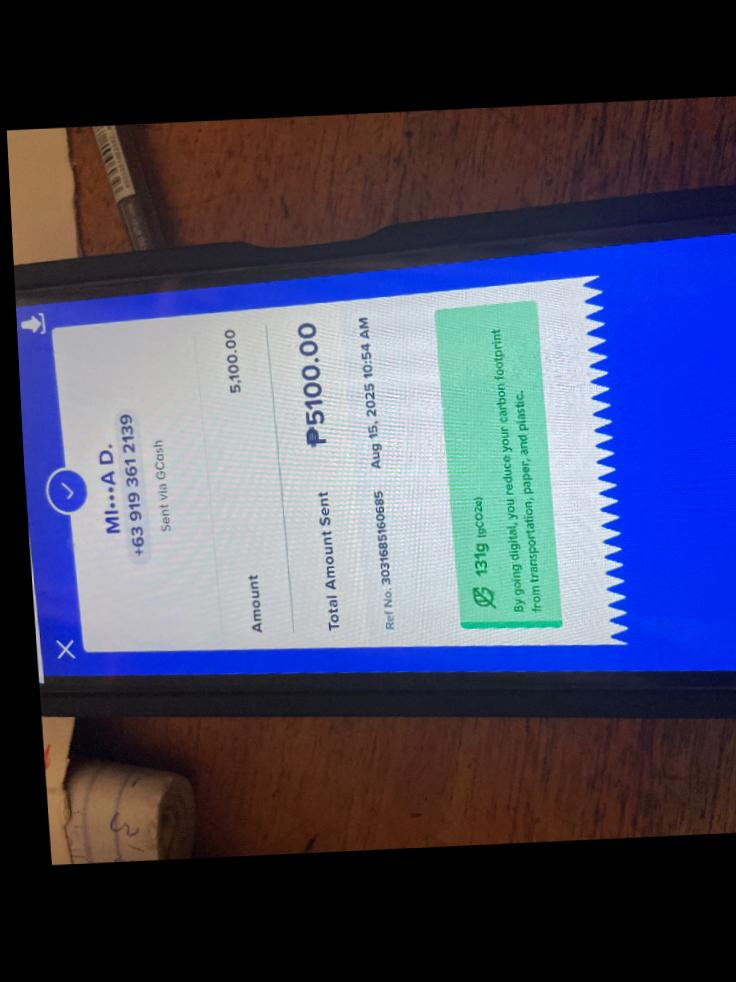Receipt: (16, 234, 736, 675)
